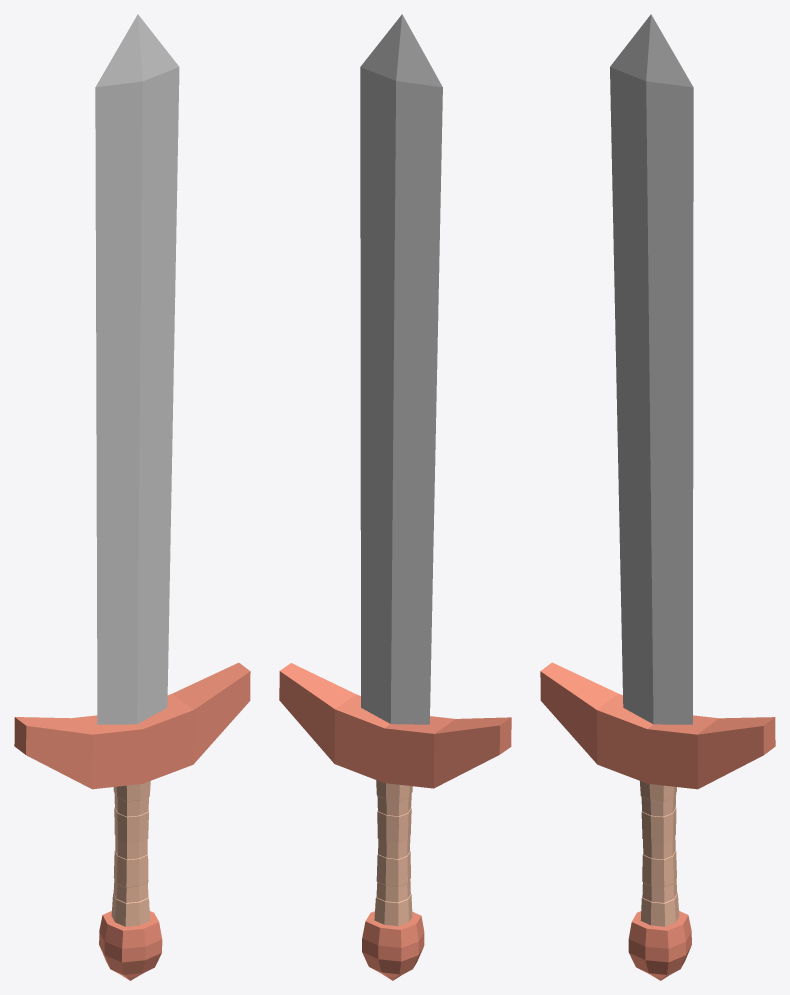
File: kılıç.fbx
The picture shows the model from 3 angles, left to right: view 1: azimuth 30°, elevation 25°; view 2: azimuth 150°, elevation 25°; view 3: azimuth 330°, elevation 25°; orthographic projection.
Parts seen in each view (by area): view 1: Cube.001; view 2: Cube.001; view 3: Cube.001.
Part boxes in pixels (left/top/right/bottom): Cube.001: left=14, top=14, right=250, bottom=980; Cube.001: left=279, top=14, right=511, bottom=980; Cube.001: left=540, top=14, right=775, bottom=980.
Bounding box in the file's own units: 447 × 1859 × 104.
